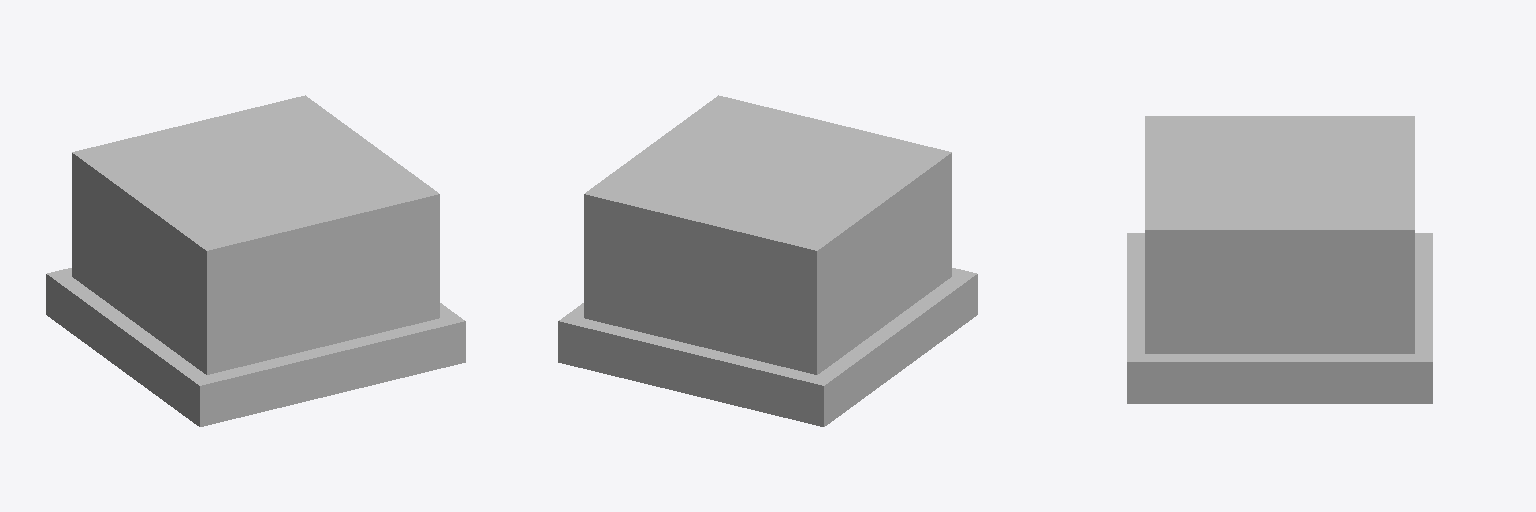
File: tile_045.obj
The picture shows the model from 3 angles: view 1: azimuth 30°, elevation 25°; view 2: azimuth 150°, elevation 25°; view 3: azimuth 270°, elevation 25°; orthographic projection.
Visible parts, largest first — view 1: tile_045; view 2: tile_045; view 3: tile_045.
Part boxes in pixels (bbox=[...]): tile_045: bbox=[46, 95, 465, 426]; tile_045: bbox=[558, 95, 977, 426]; tile_045: bbox=[1127, 116, 1432, 403].
Bounding box in the file's own units: 0.6717 × 0.4 × 0.6717.